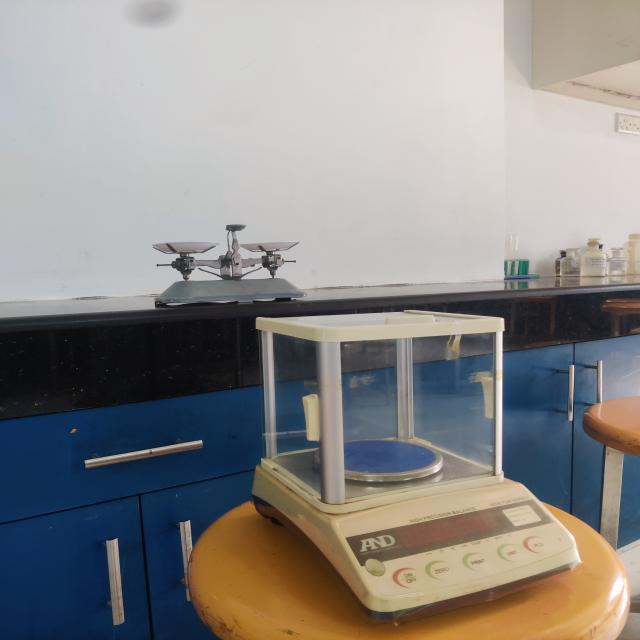Mechanical_Balance_Scale: (124, 198, 345, 324)
Precision_Weight_Scale: (223, 306, 616, 640)
